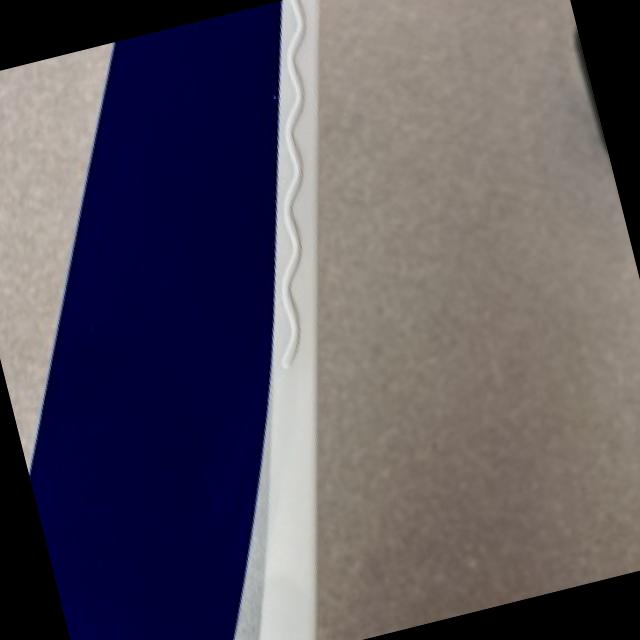healthy: (27, 0, 315, 640)
